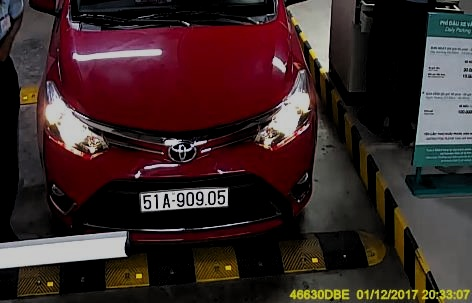plate: (138, 183, 231, 216)
